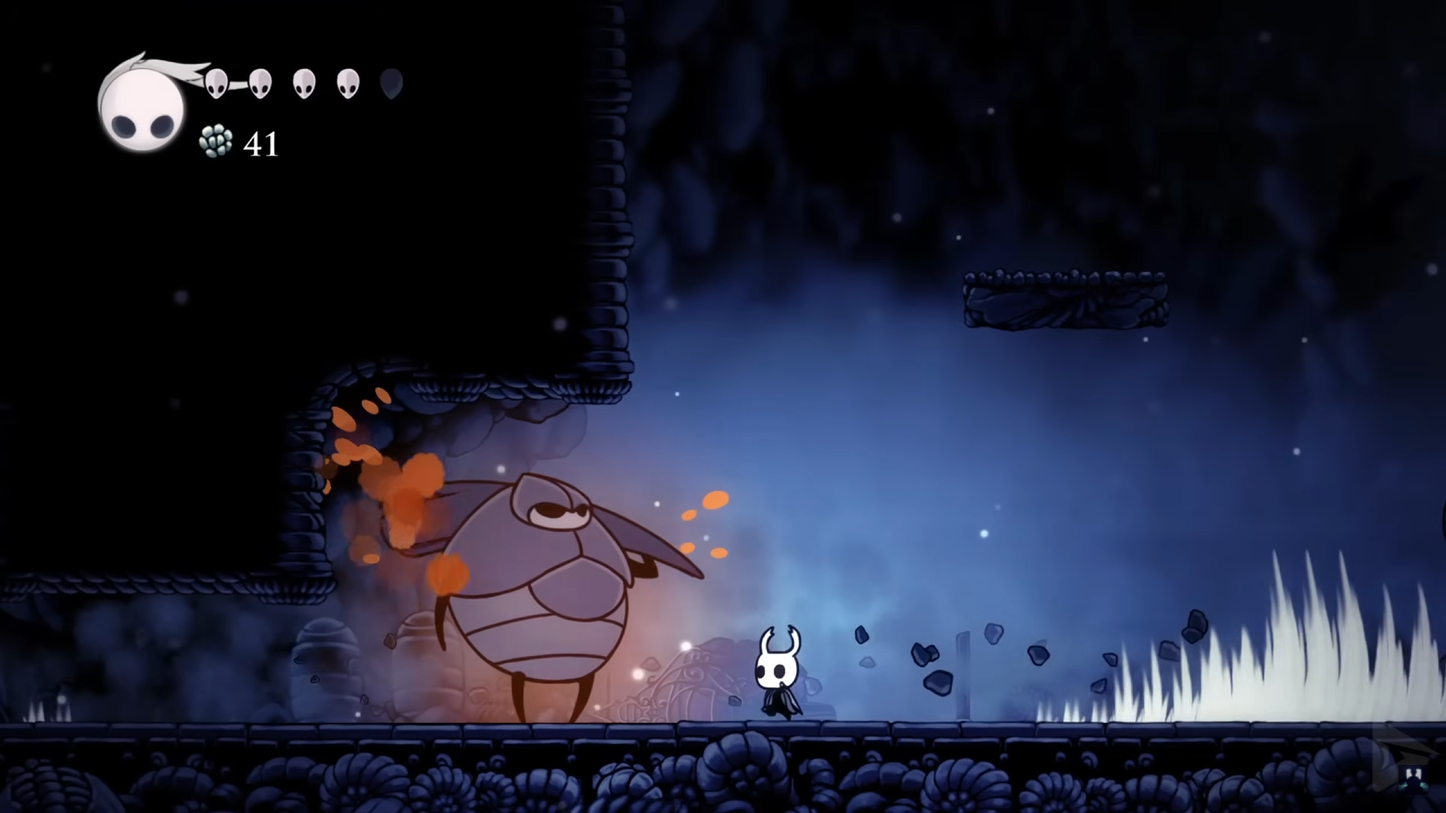HK: (747, 626, 809, 723)
